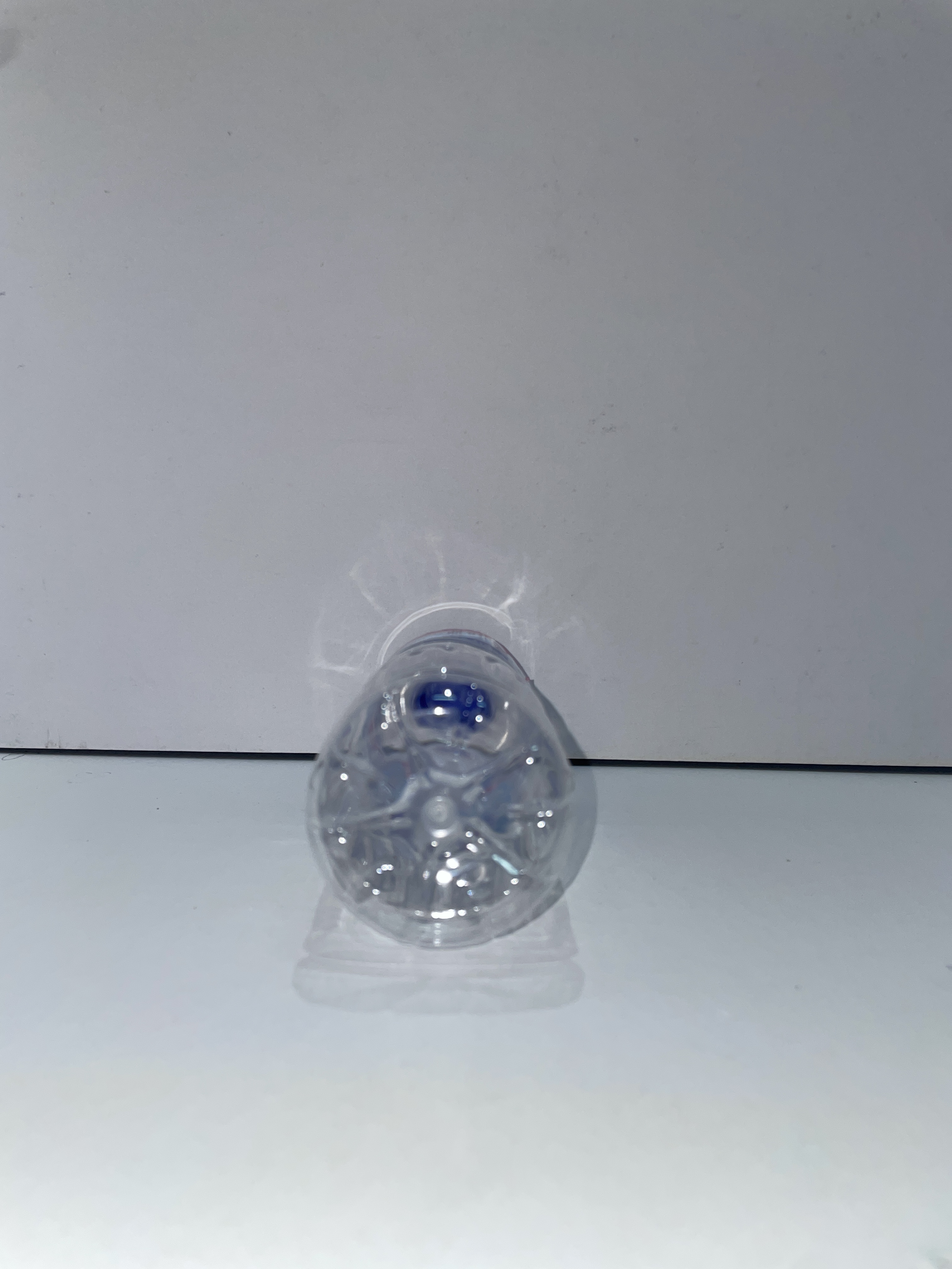True 500ml: (309, 630, 581, 949)
